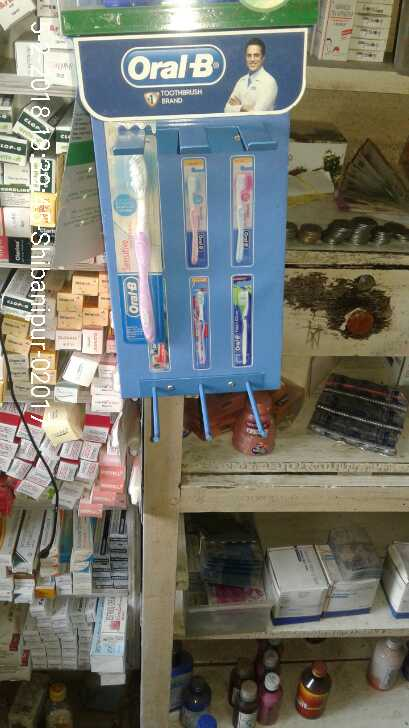oralb: (105, 122, 175, 352)
